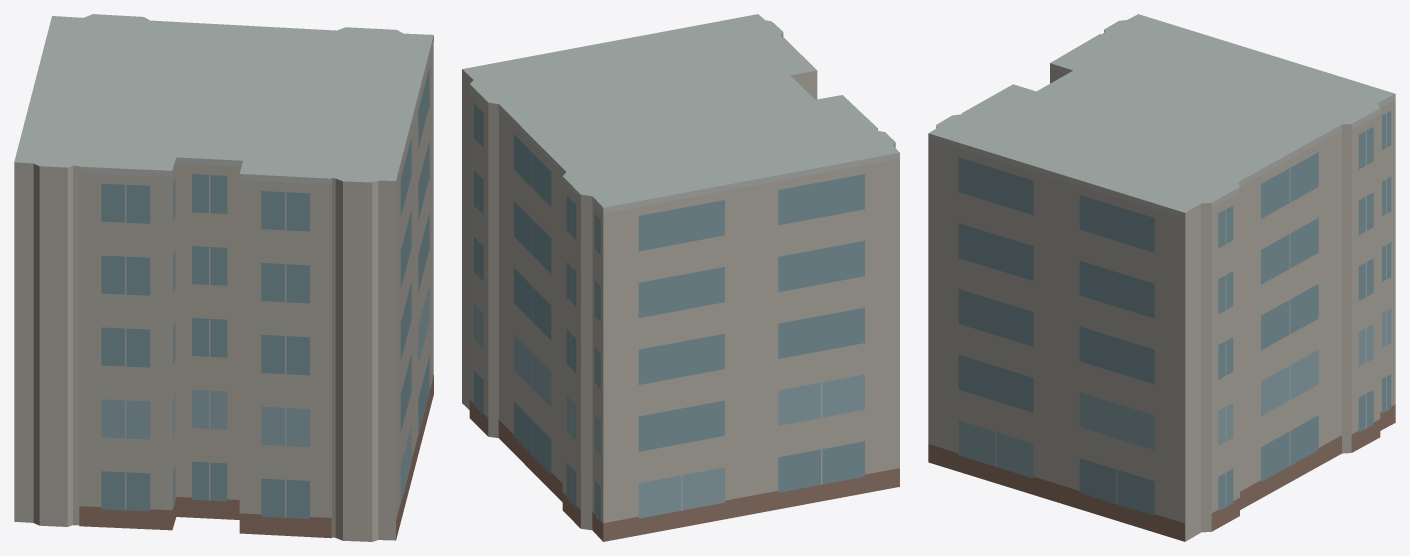
Rendered from survey-upis-32631762.glb.
3 views of the same model, side by side, from view 1: azimuth 30°, elevation 25°; view 2: azimuth 150°, elevation 25°; view 3: azimuth 270°, elevation 25° (orthographic). The views are drawn at different scales.
Parts seen in each view (by area): view 1: survey-upis-32631762.tmp; view 2: survey-upis-32631762.tmp; view 3: survey-upis-32631762.tmp.
Part boxes in pixels (x1=…): survey-upis-32631762.tmp: x1=14, y1=14, x2=433, y2=541; survey-upis-32631762.tmp: x1=462, y1=14, x2=899, y2=541; survey-upis-32631762.tmp: x1=928, y1=14, x2=1395, y2=541.
Bounding box in the file's own units: 17.9 × 13.8 × 17.77.
